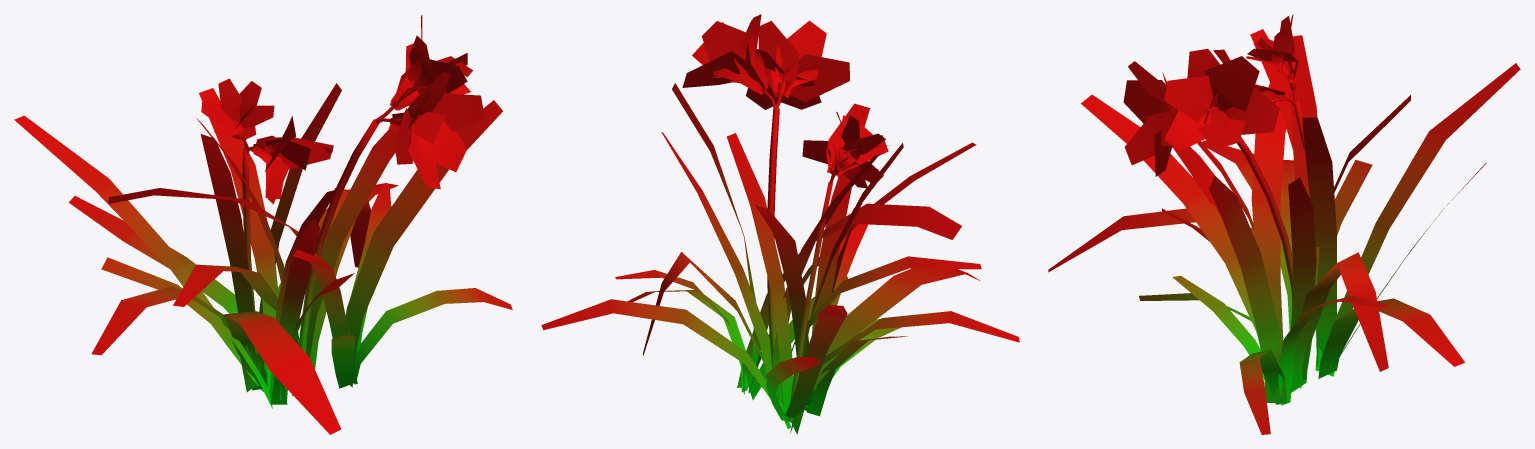
File: Var5_LOD2.fbx
The picture shows the model from 3 angles, left to right: view 1: azimuth 30°, elevation 25°; view 2: azimuth 150°, elevation 25°; view 3: azimuth 270°, elevation 25°; orthographic projection. The views are drawn at different scales.
Parts seen in each view (by area): view 1: _5cb2_Var5_LOD2; view 2: _5cb2_Var5_LOD2; view 3: _5cb2_Var5_LOD2.
Boxes of the visible parts, x1,y1,x2,y2 form: _5cb2_Var5_LOD2: (14,15,512,434); _5cb2_Var5_LOD2: (541,14,1019,434); _5cb2_Var5_LOD2: (1048,14,1520,434).
Bounding box in the file's own units: 85.9 × 72.37 × 81.18.
